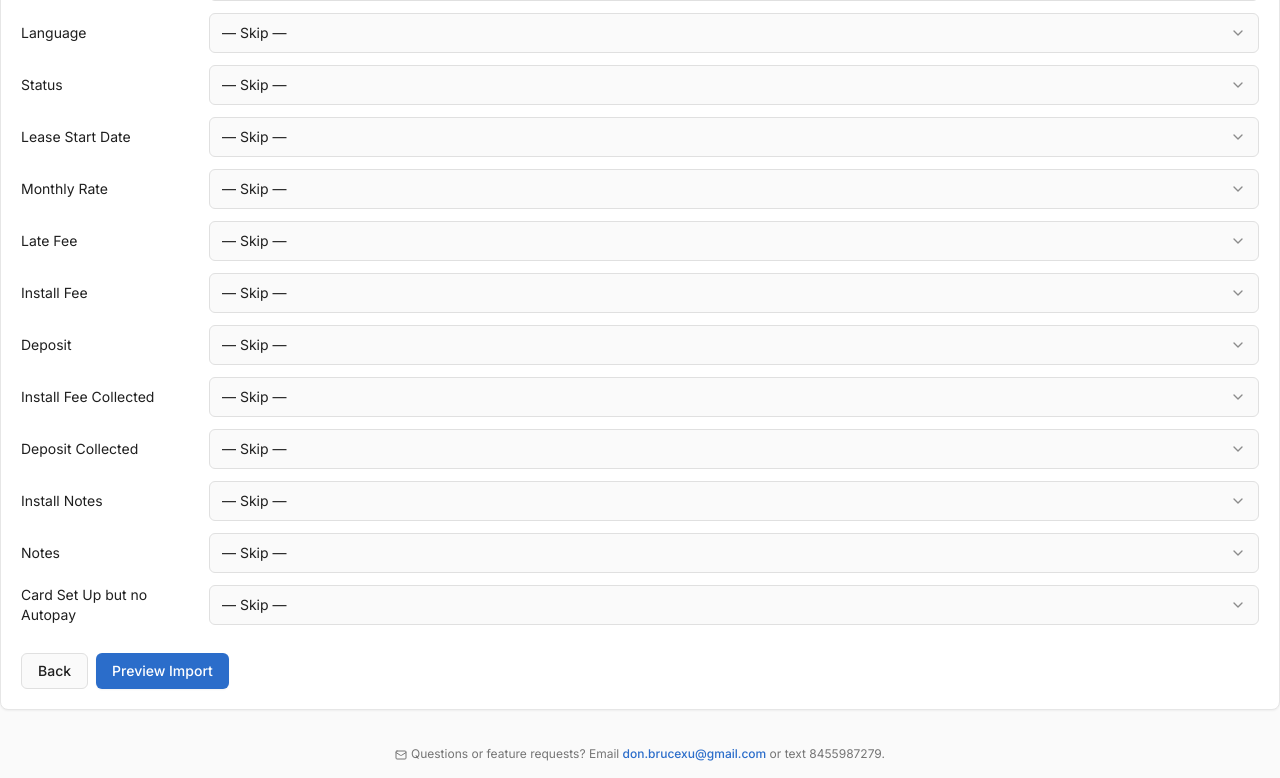
Test case: ImportPage › shows the preview notice and paginates all non-empty rows
The image size is (1280, 778).
Earlier steps of the test are not shown.
Later steps or results of the test are not shown.
(page scrolled)
Click the button "Preview Import": {"x": 162, "y": 671} [96, 653, 229, 689]
(page scrolled)
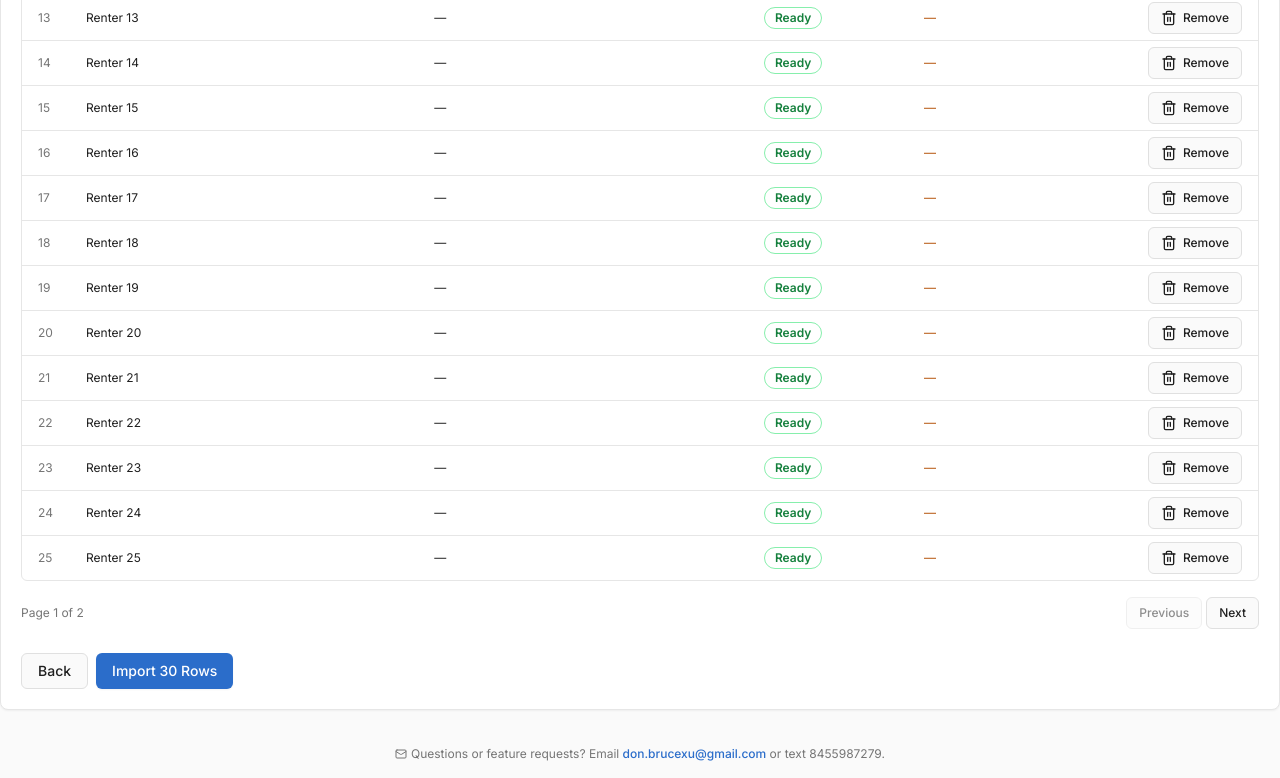
Expected: the text "Renter 26" is not shown
Now the text "Page 1 of 2" is shown, box [21, 604, 84, 620]
Click the button "Next": {"x": 1233, "y": 612} [1206, 596, 1259, 628]
(page scrolled)
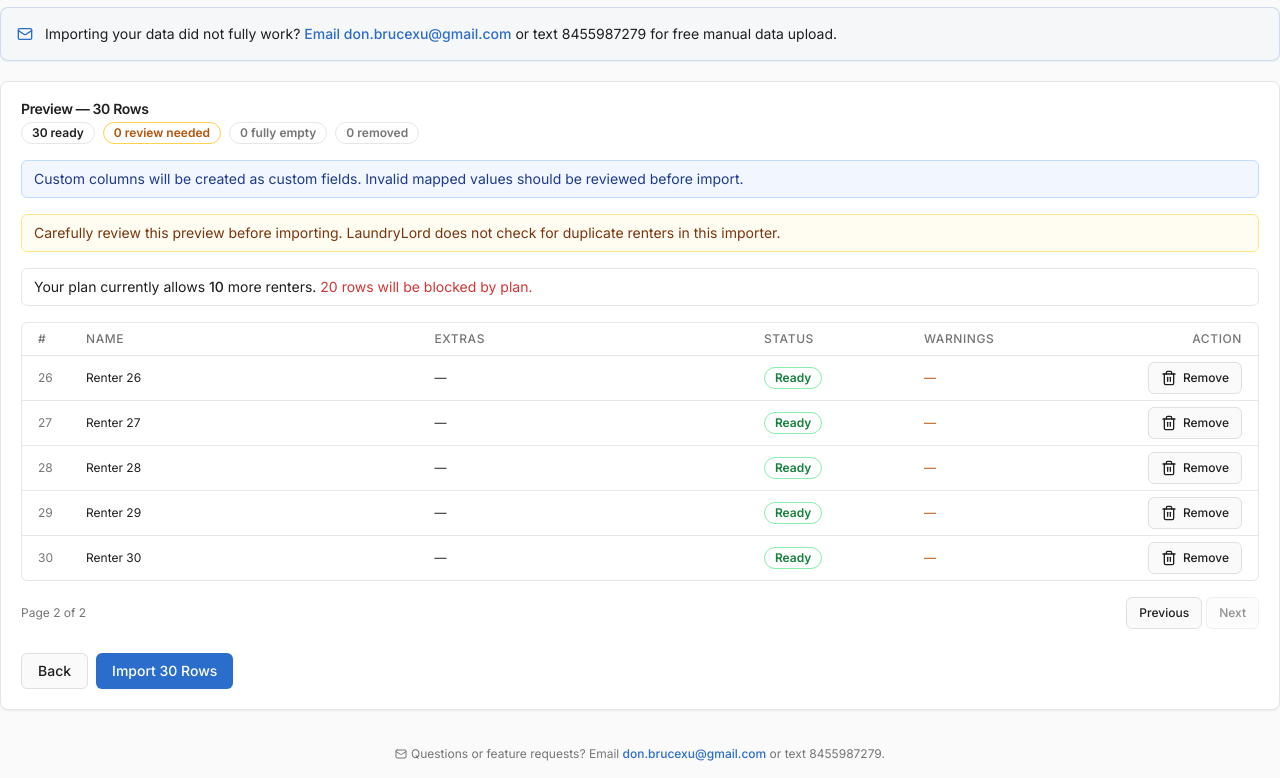
Now the text "Page 2 of 2" is shown, box [21, 604, 86, 620]
Now the text "Renter 26" is shown, box [70, 355, 418, 400]
